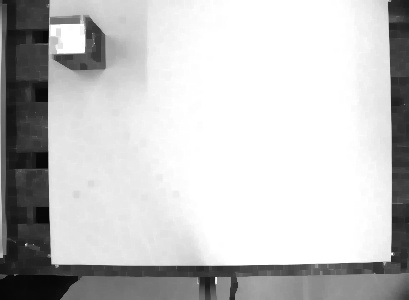b4: (44, 14, 108, 70)
